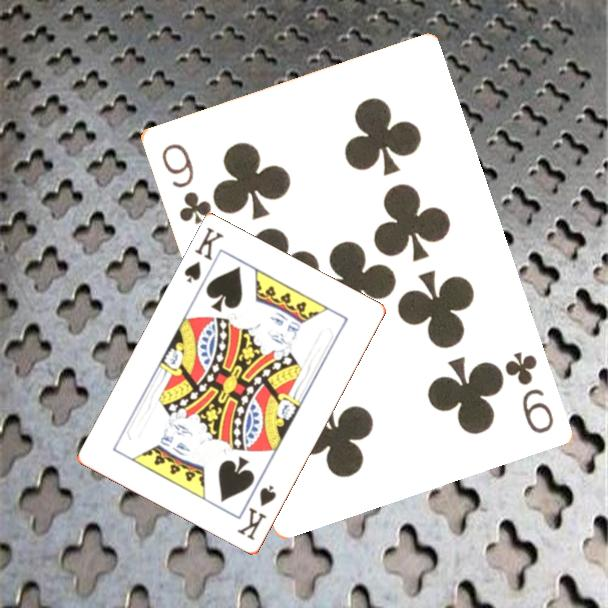c09: (157, 139, 214, 227), (500, 348, 556, 437)
s13: (181, 224, 227, 287), (234, 481, 279, 544)
